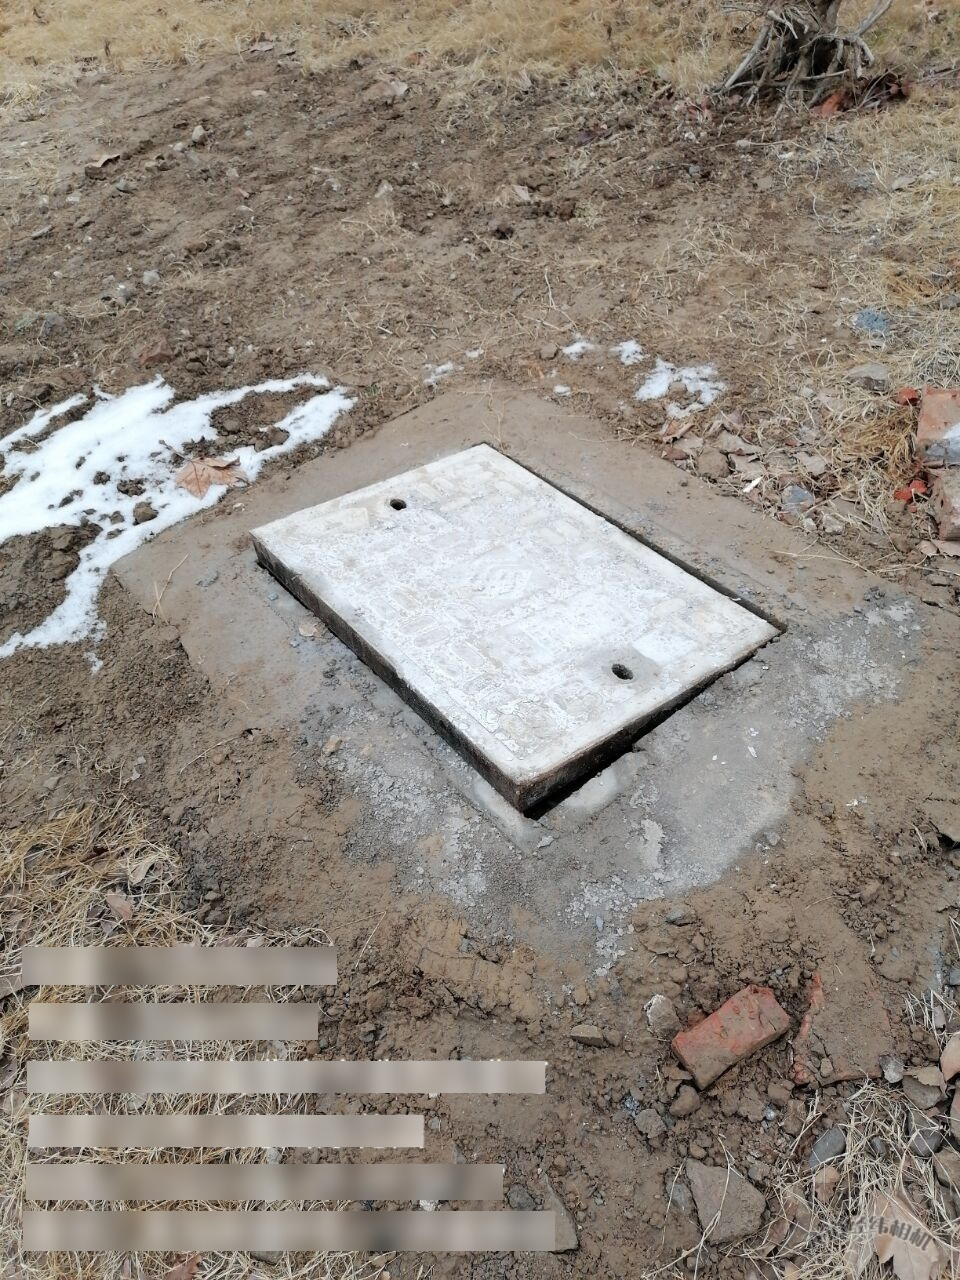uncovered: (237, 435, 815, 850)
